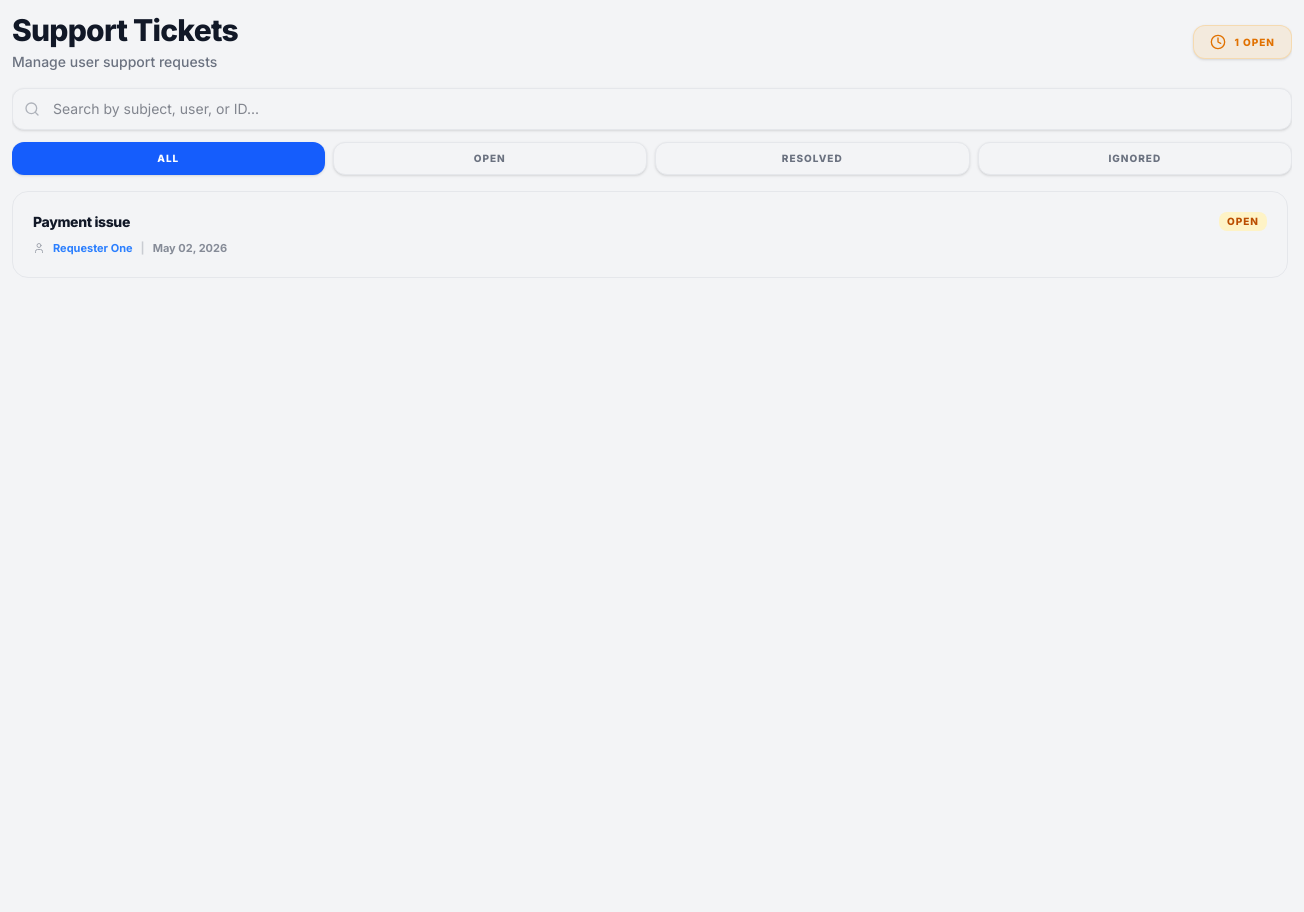
Test case: SupportPage › shows a retryable message error instead of an empty thread
Click the heading "Payment issue". click: {"x": 82, "y": 222}
box: [33,212,130,232]
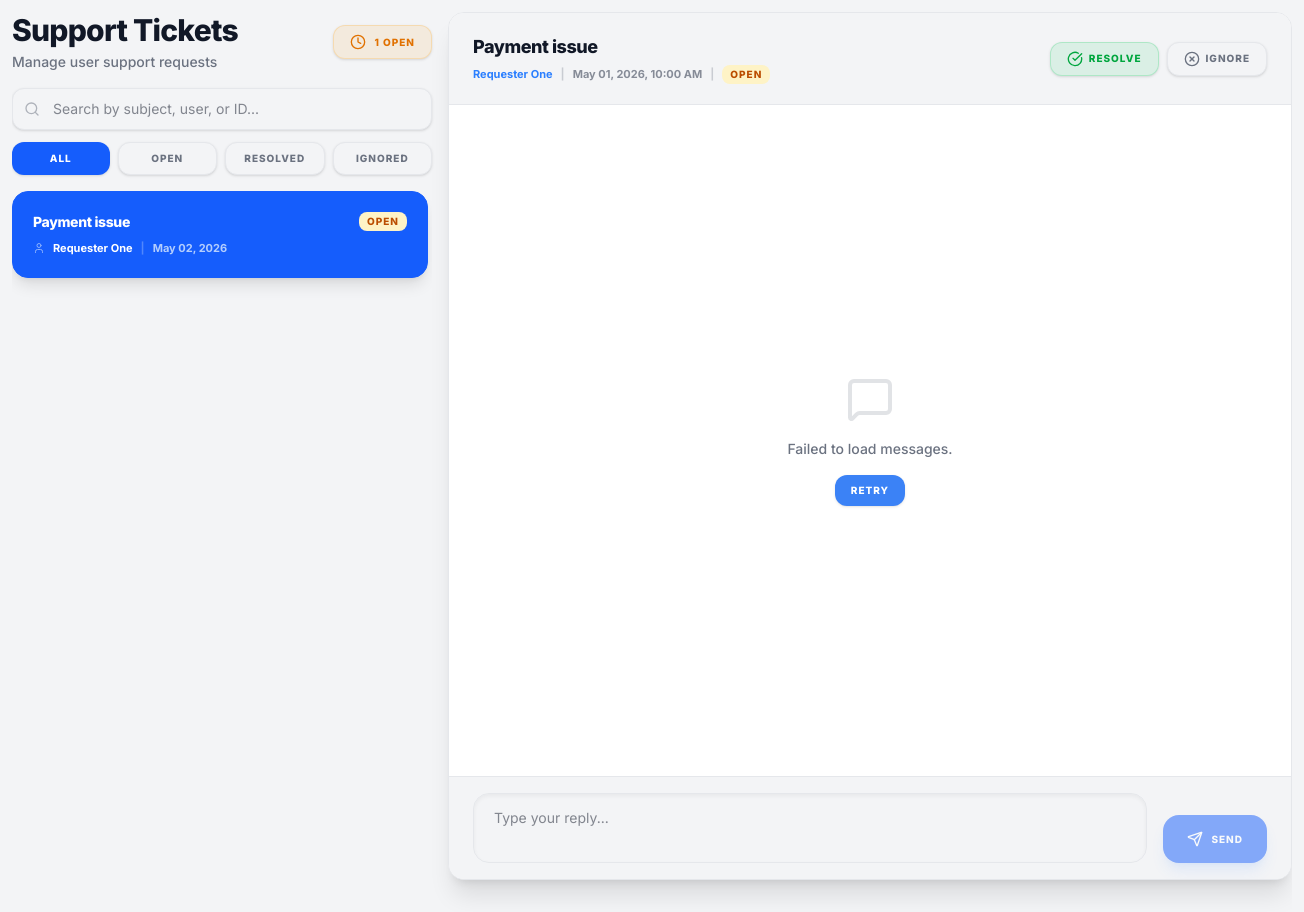
Result: the button "Retry" is shown at [835,475,905,506]
